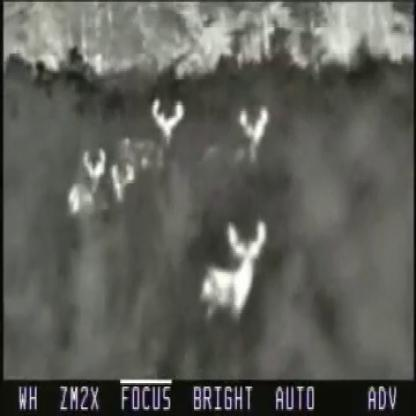rehkitze: (198, 219, 267, 321), (67, 150, 105, 218), (239, 105, 270, 166), (148, 95, 186, 140)
